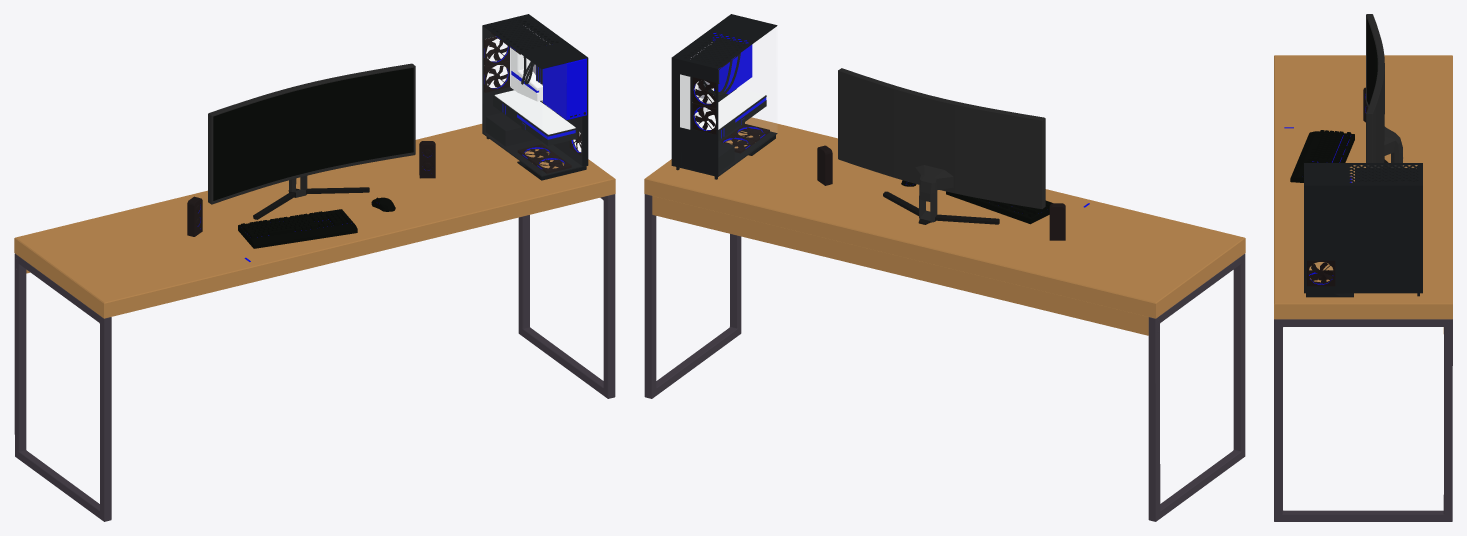
The model's file is gamer-setup-pack-49aa58.glb.
3 views of the same model, side by side, from view 1: azimuth 30°, elevation 25°; view 2: azimuth 150°, elevation 25°; view 3: azimuth 270°, elevation 25° (orthographic).
Parts seen in each view (by area): view 1: sm_keyboard_mt_keyboard_plastc_0, sm_monitor_mt_monitor_plastc-base_0; view 2: sm_keyboard_mt_keyboard_plastc_0, sm_monitor_mt_monitor_plastc-base_0; view 3: sm_keyboard_mt_keyboard_plastc_0, sm_monitor_mt_monitor_plastc-base_0, fan.010.
Part boxes in pixels (x1,y1,x2,y2): sm_keyboard_mt_keyboard_plastc_0: (14, 14, 615, 521); sm_monitor_mt_monitor_plastc-base_0: (208, 63, 415, 204); sm_keyboard_mt_keyboard_plastc_0: (644, 14, 1245, 521); sm_monitor_mt_monitor_plastc-base_0: (838, 68, 1045, 222); sm_keyboard_mt_keyboard_plastc_0: (1274, 19, 1452, 521); sm_monitor_mt_monitor_plastc-base_0: (1366, 14, 1402, 168); fan.010: (1310, 262, 1333, 283).
Size of the model in its own units: 2 by 1.25 by 0.6076.
4 materials, 4 textured.
